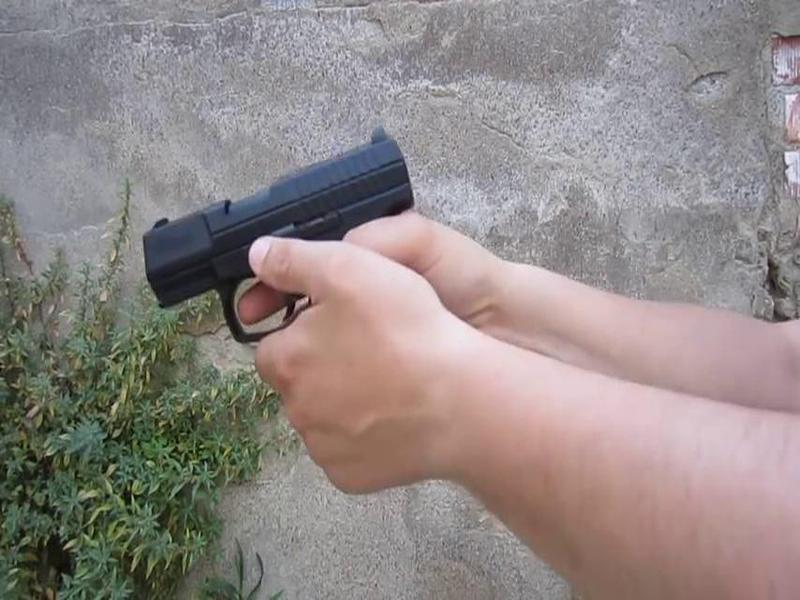Pistola: (128, 134, 421, 344)
